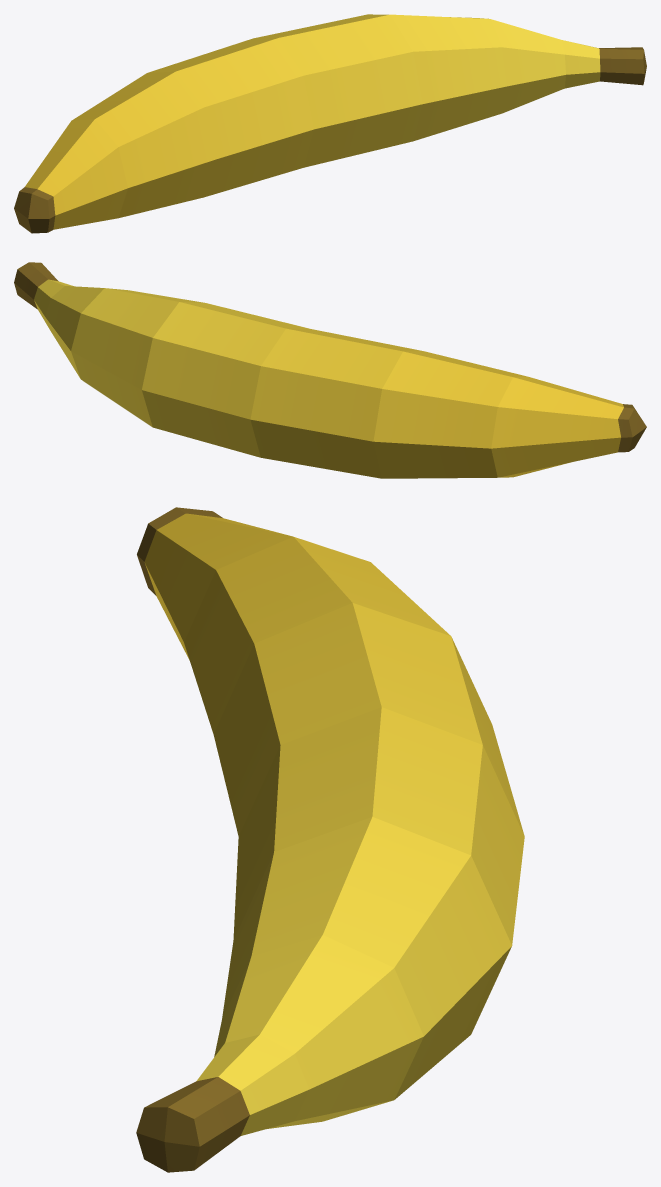
Rendered from banana_1.fbx.
3 views of the same model, one above another, from view 1: azimuth 30°, elevation 25°; view 2: azimuth 150°, elevation 25°; view 3: azimuth 270°, elevation 25° (orthographic). The views are drawn at different scales.
Visible parts, largest first — view 1: banana_1; view 2: banana_1; view 3: banana_1.
Boxes of the visible parts, x1,y1,x2,y2 form: banana_1: (14, 14, 646, 233); banana_1: (14, 262, 646, 478); banana_1: (136, 507, 524, 1172).
Bounding box in the file's own units: 0.2123 × 0.0423 × 0.0574.
